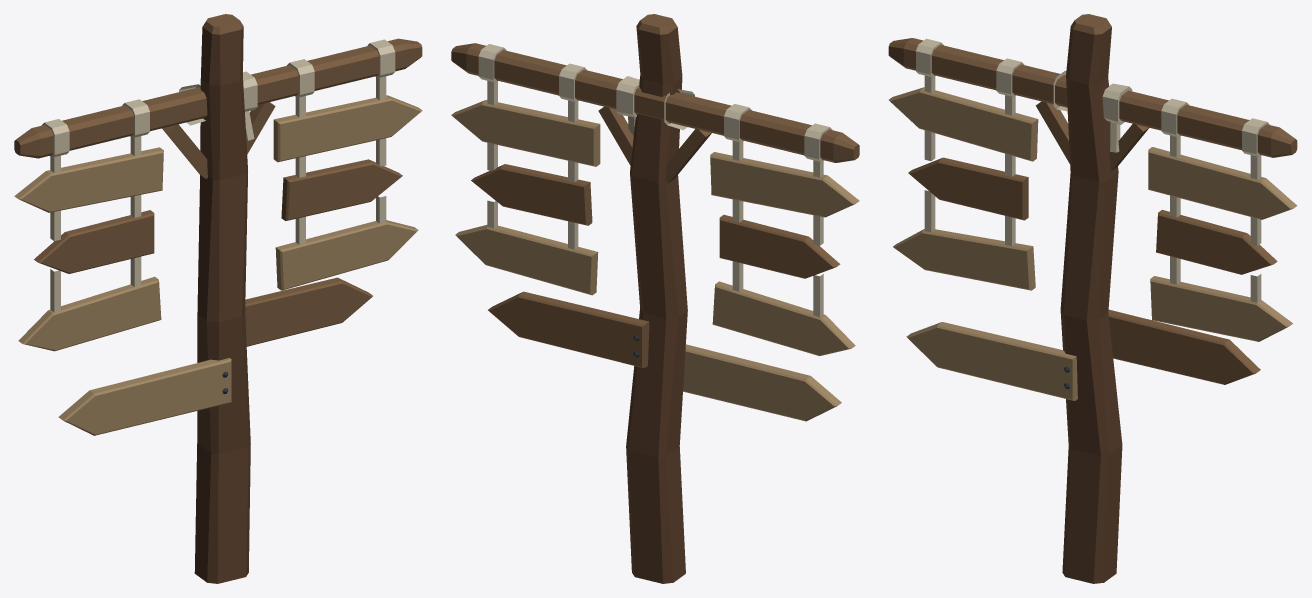
Rendered from signpost.glb.
The picture shows the model from 3 angles, left to right: view 1: azimuth 30°, elevation 25°; view 2: azimuth 150°, elevation 25°; view 3: azimuth 330°, elevation 25°; orthographic projection.
Parts seen in each view (by area): view 1: post, signs-left, signs-right, sign-lower; view 2: post, signs-left, signs-right, sign-lower; view 3: post, signs-left, signs-right, sign-lower.
Part boxes in pixels (box(x1,y1,x2,y2)): post: box(14, 14, 422, 583); signs-left: box(14, 136, 163, 351); signs-right: box(273, 76, 422, 290); sign-lower: box(58, 277, 372, 435); post: box(451, 14, 859, 583); signs-left: box(710, 140, 859, 355); signs-right: box(451, 80, 600, 295); sign-lower: box(488, 291, 841, 421); post: box(888, 14, 1297, 583); signs-left: box(889, 75, 1038, 290); signs-right: box(1148, 135, 1297, 341); sign-lower: box(906, 309, 1260, 400).
Size of the model in its own units: 2.06 by 2.69 by 0.252.
